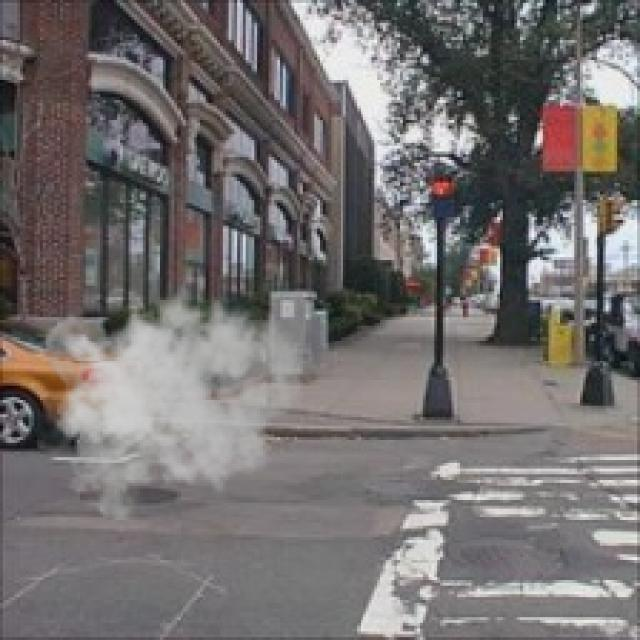Smoke: (37, 271, 306, 520)
